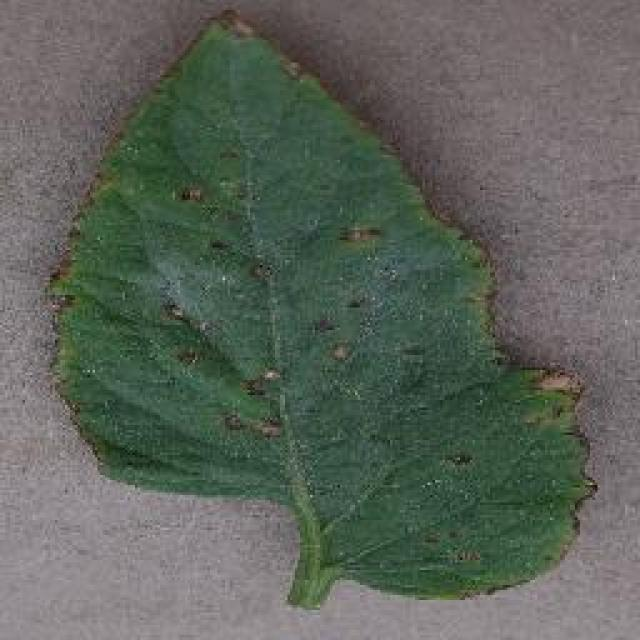bacterial spot: (47, 12, 600, 611)
